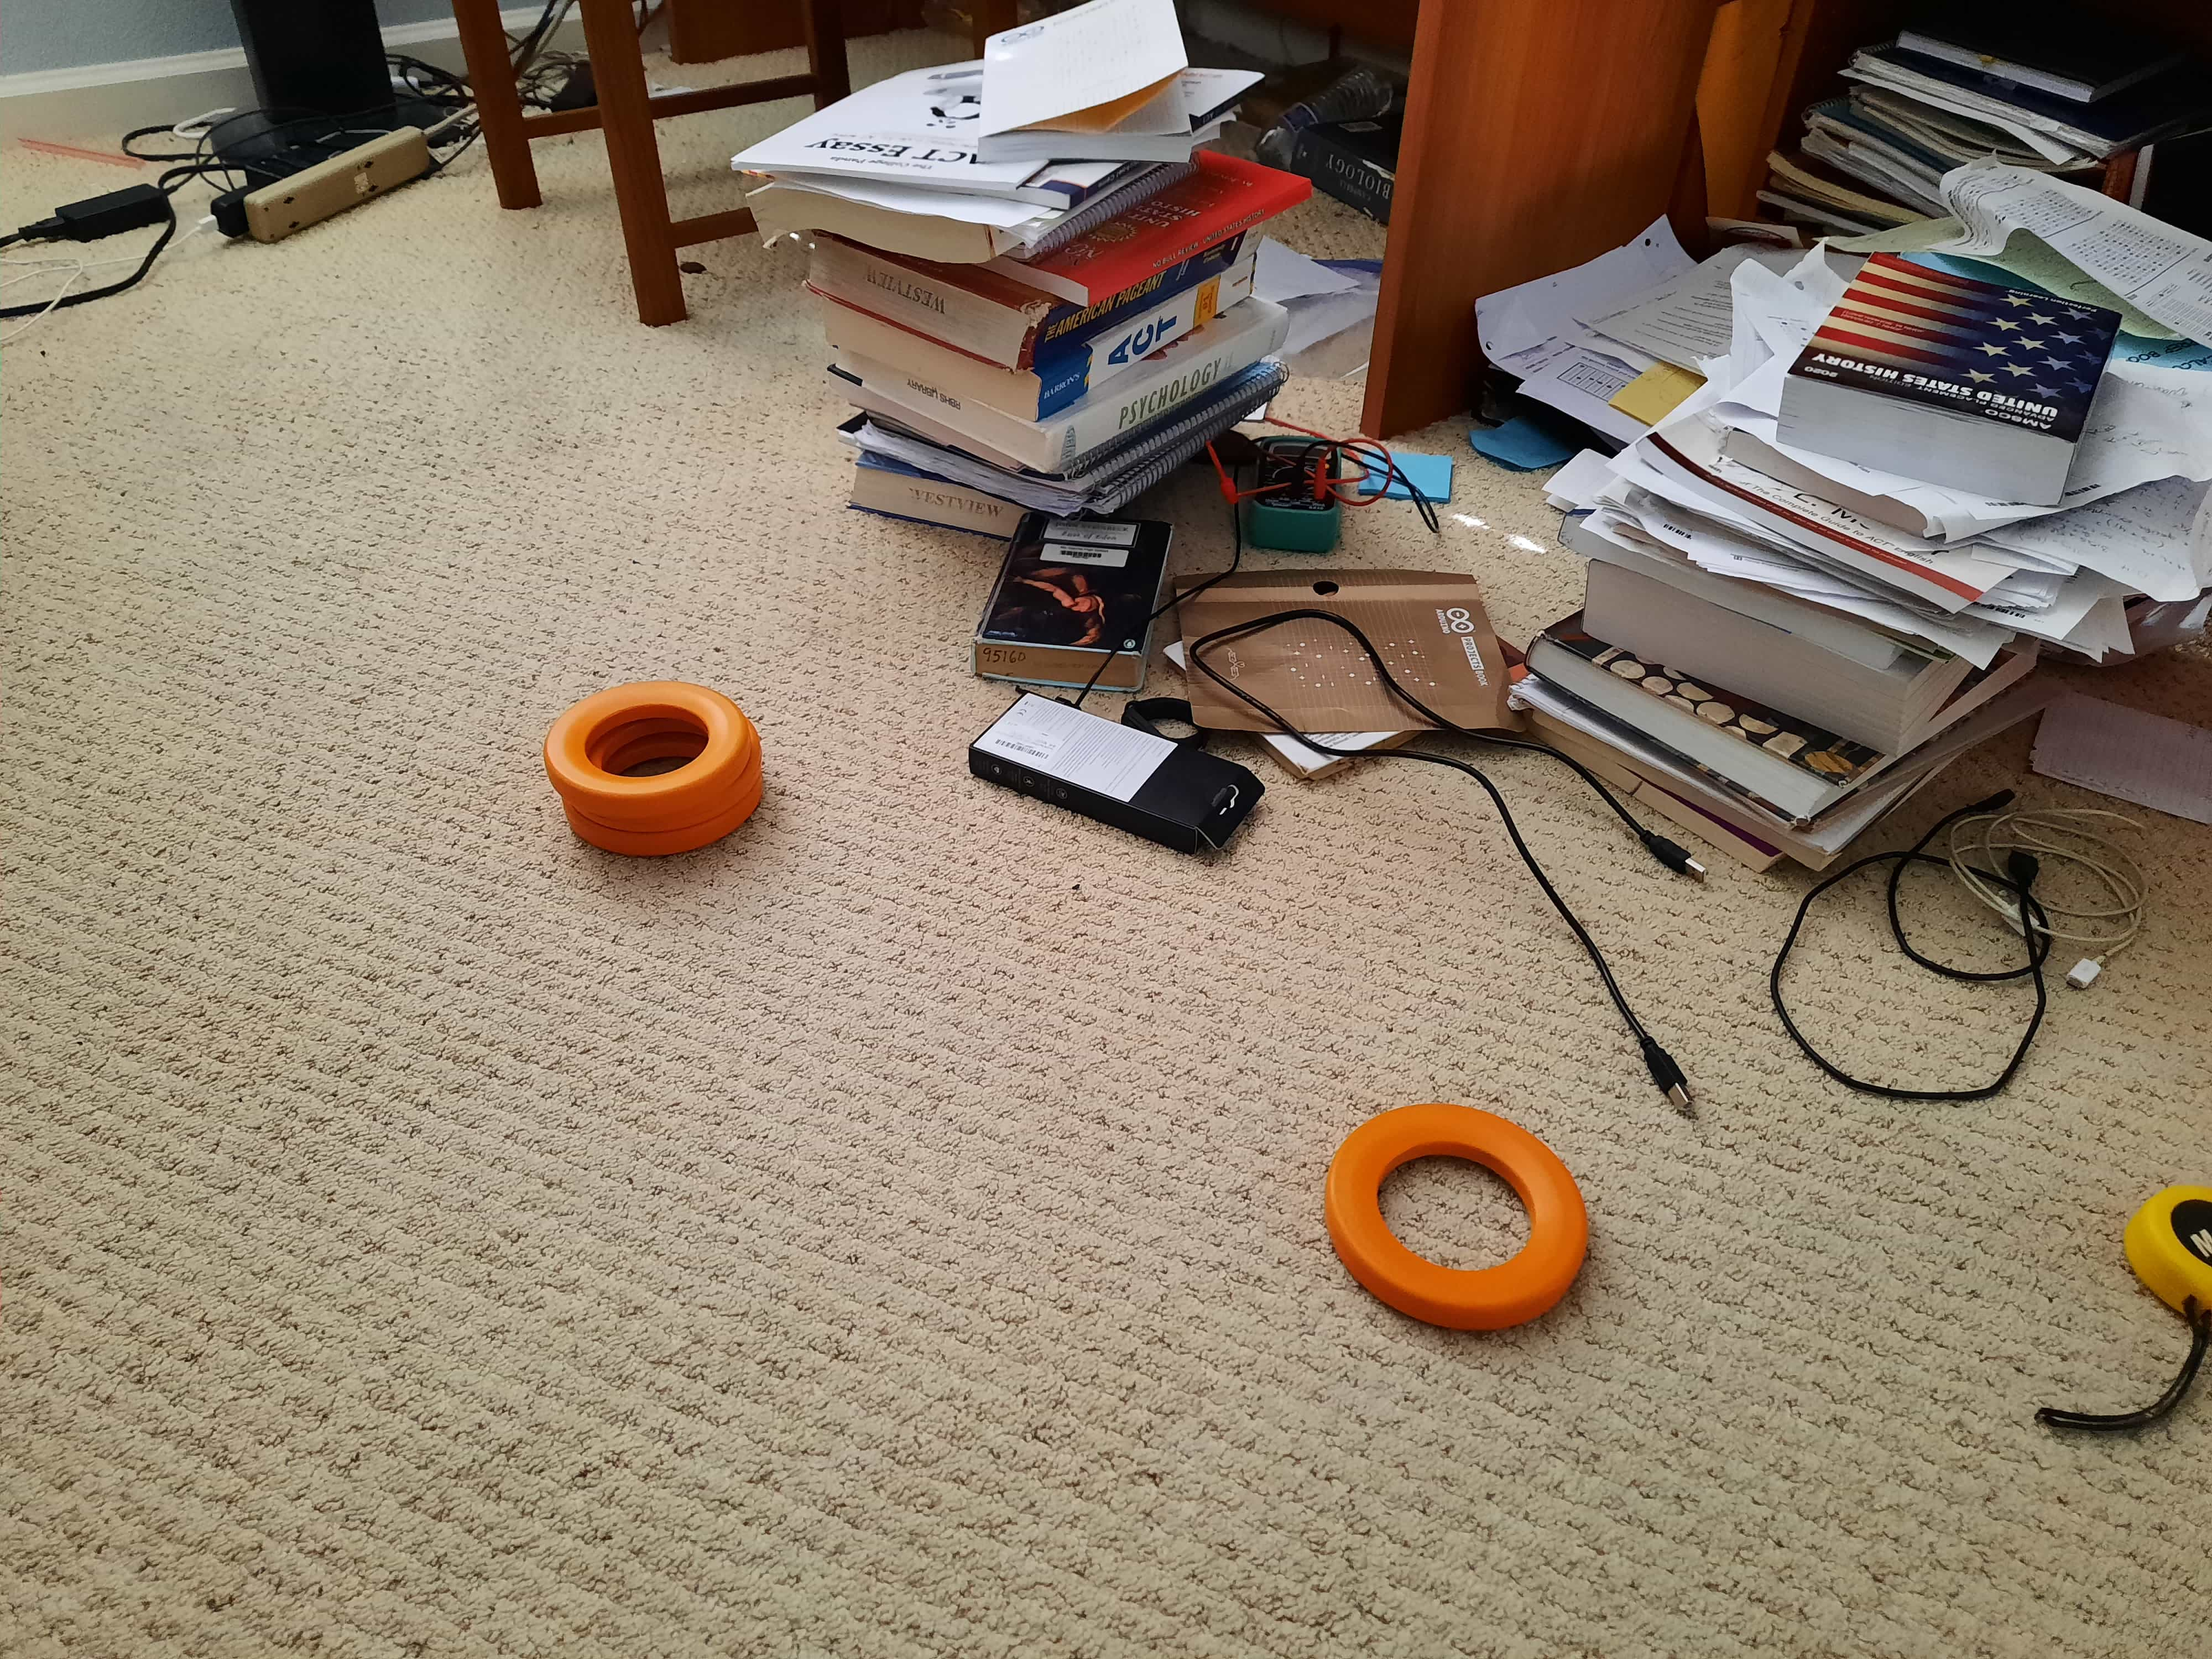FourStack: (563, 694, 761, 856)
OneStack: (1322, 1105, 1590, 1323)
